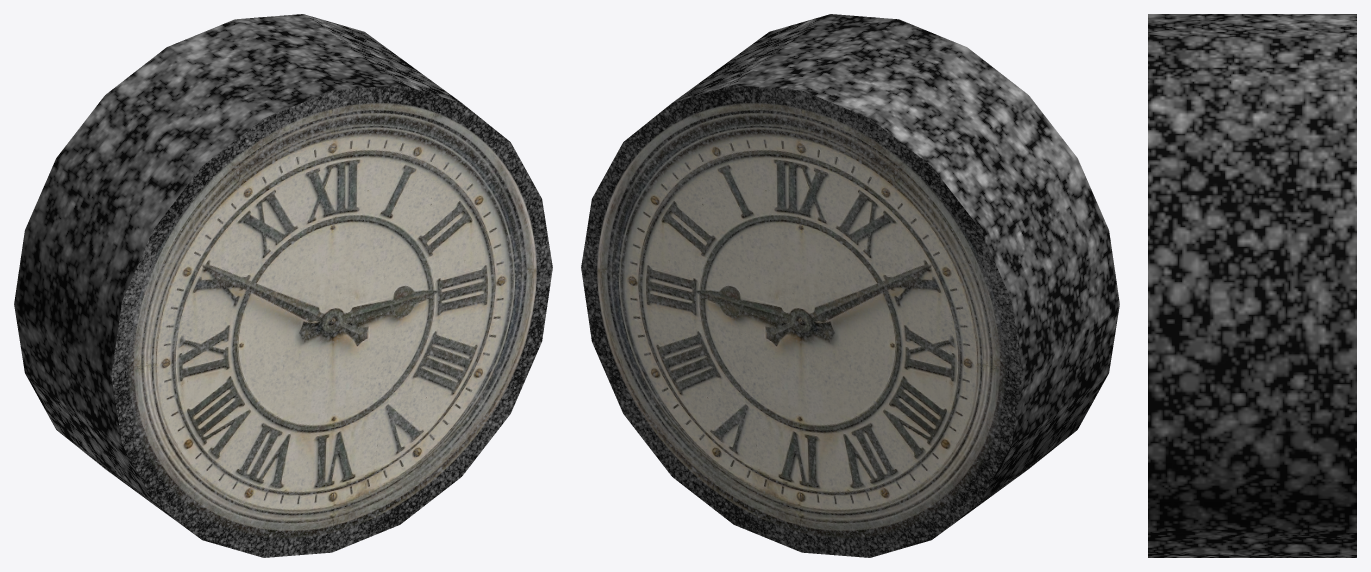
File: ClockChurch.fbx
The picture shows the model from 3 angles, left to right: view 1: azimuth 30°, elevation 25°; view 2: azimuth 150°, elevation 25°; view 3: azimuth 270°, elevation 25°; orthographic projection. The views are drawn at different scales.
Parts seen in each view (by area): view 1: ClockChurch; view 2: ClockChurch; view 3: ClockChurch.
Part boxes in pixels (<box>): ClockChurch: <box>14,14,552,557</box>; ClockChurch: <box>581,14,1119,557</box>; ClockChurch: <box>1148,14,1356,557</box>.
Bounding box in the file's own units: 200 × 200 × 76.23.
1 material, 1 textured.
